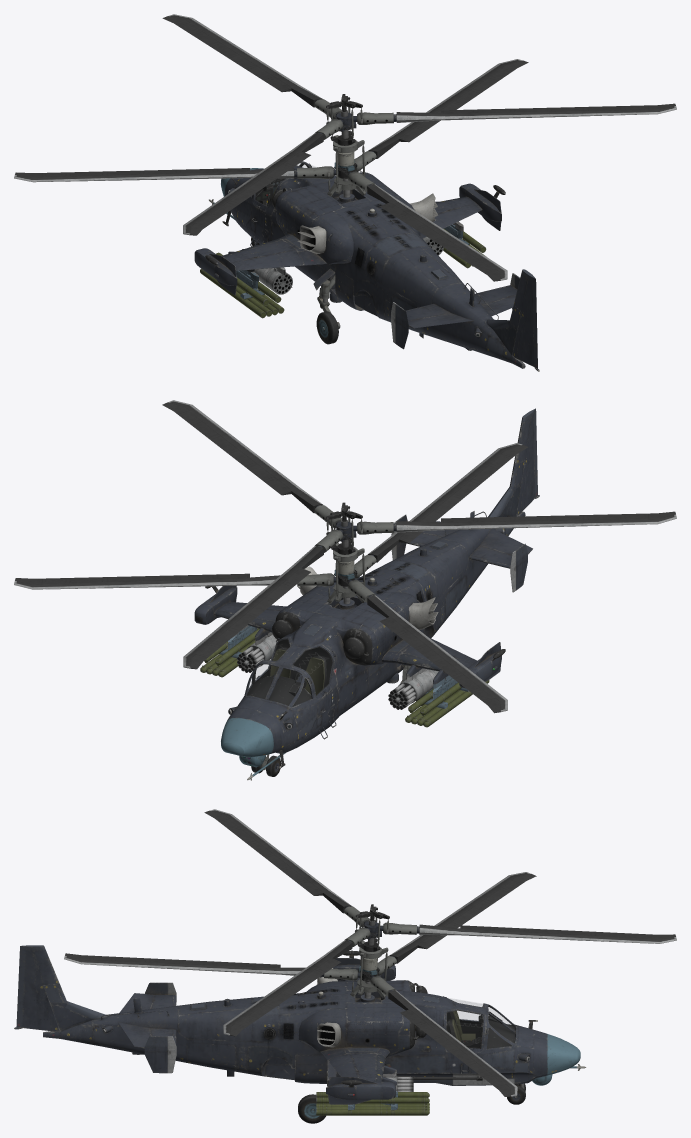
The model's file is pbr_kamov_ka-52.glb.
3 views of the same model, one above another, from view 1: azimuth 30°, elevation 25°; view 2: azimuth 150°, elevation 25°; view 3: azimuth 270°, elevation 25° (orthographic). The views are drawn at different scales.
Visible parts, largest first — view 1: SK_East_Heli_Ka52_LOD0_11, SK_East_Heli_Ka52_LOD0.002_9, SK_East_Heli_Ka52_LOD0.003_8; view 2: SK_East_Heli_Ka52_LOD0_11, SK_East_Heli_Ka52_LOD0.002_9, SK_East_Heli_Ka52_LOD0.003_8; view 3: SK_East_Heli_Ka52_LOD0_11, SK_East_Heli_Ka52_LOD0.002_9.
Boxes of the visible parts, left/top/right/bottom form: SK_East_Heli_Ka52_LOD0_11: left=14, top=14, right=676, bottom=371; SK_East_Heli_Ka52_LOD0.002_9: left=200, top=224, right=486, bottom=318; SK_East_Heli_Ka52_LOD0.003_8: left=242, top=237, right=443, bottom=294; SK_East_Heli_Ka52_LOD0_11: left=14, top=400, right=676, bottom=780; SK_East_Heli_Ka52_LOD0.002_9: left=200, top=625, right=489, bottom=727; SK_East_Heli_Ka52_LOD0.003_8: left=237, top=634, right=438, bottom=709; SK_East_Heli_Ka52_LOD0_11: left=14, top=809, right=676, bottom=1123; SK_East_Heli_Ka52_LOD0.002_9: left=316, top=1091, right=429, bottom=1115.
Bounding box in the file's own units: 25.04 × 9.84 × 31.05.
4 materials, 4 textured.
